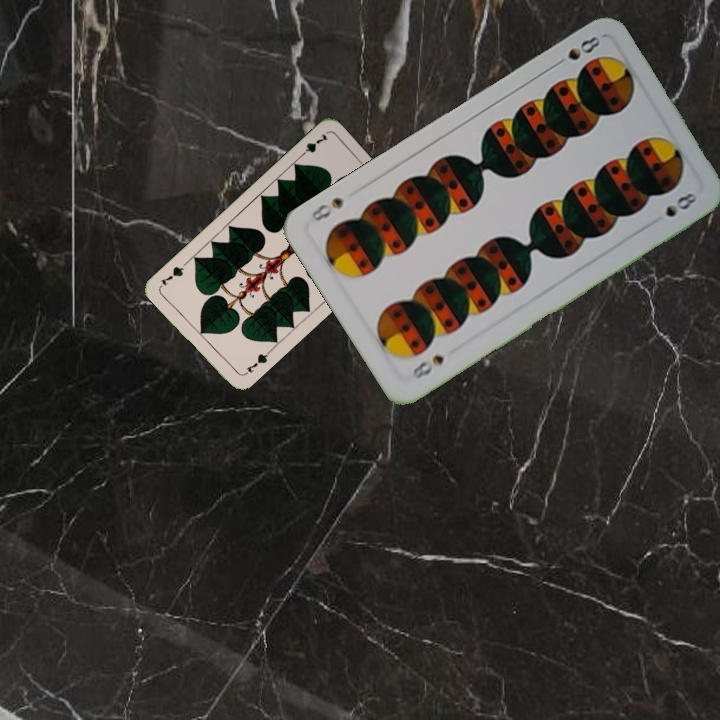G7: (295, 129, 331, 161), (239, 347, 272, 378)
S8: (549, 32, 604, 72), (406, 350, 447, 384)
